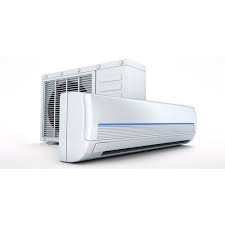ac: (57, 89, 198, 165)
